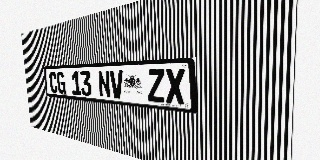1: (71, 71, 81, 96)
3: (80, 71, 92, 97)
C: (49, 72, 58, 94)
G: (56, 72, 66, 94)
N: (98, 70, 111, 98)
V: (110, 70, 124, 99)
X: (165, 68, 185, 105)
Z: (147, 69, 165, 103)
